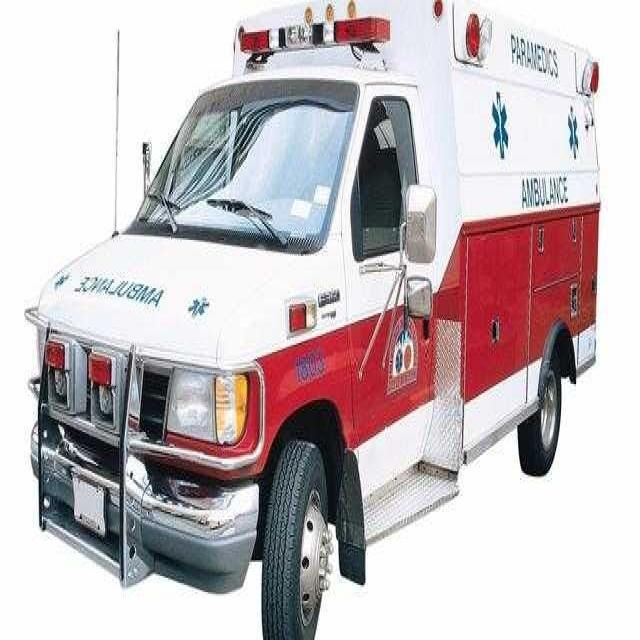emergency-vehicle: (28, 2, 613, 620)
